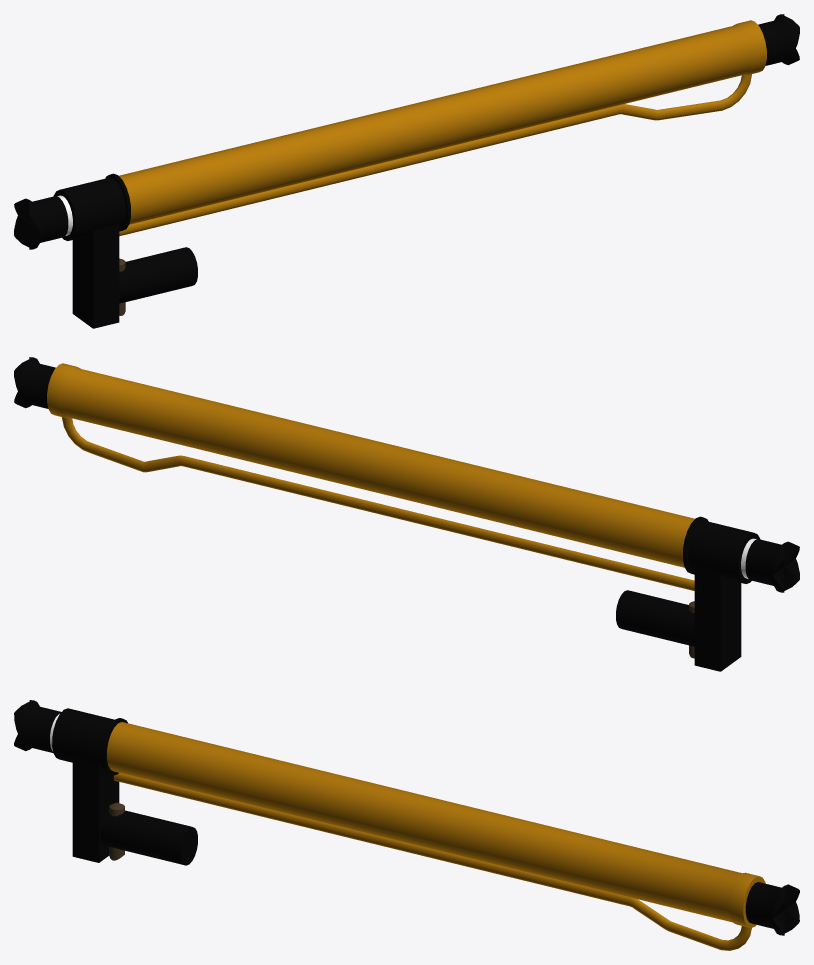
The picture shows the model from 3 angles, top to bottom: view 1: azimuth 30°, elevation 25°; view 2: azimuth 150°, elevation 25°; view 3: azimuth 330°, elevation 25°; orthographic projection.
Visible parts, largest first — view 1: Extension, Upper, Handle, Connector, Tail, Head; view 2: Extension, Upper, Handle, Connector, Tail, Head; view 3: Extension, Upper, Handle, Connector, Head, Tail.
Part boxes in pixels (box(x1,y1,x2,y2)): Extension: box(119, 62, 601, 236); Upper: box(584, 20, 766, 122); Handle: box(53, 173, 130, 328); Connector: box(119, 247, 197, 303); Tail: box(14, 195, 72, 249); Head: box(758, 14, 799, 65); Extension: box(212, 405, 694, 590); Upper: box(47, 363, 227, 474); Handle: box(683, 516, 760, 671); Connector: box(616, 590, 694, 646); Tail: box(741, 538, 799, 592); Head: box(14, 357, 55, 408); Extension: box(107, 722, 595, 897); Upper: box(578, 837, 765, 950); Handle: box(52, 708, 127, 862); Connector: box(100, 809, 197, 865); Head: box(745, 882, 799, 935); Tail: box(14, 700, 61, 752).
Bounding box in the file's own units: 110 × 18.81 × 6.41.
